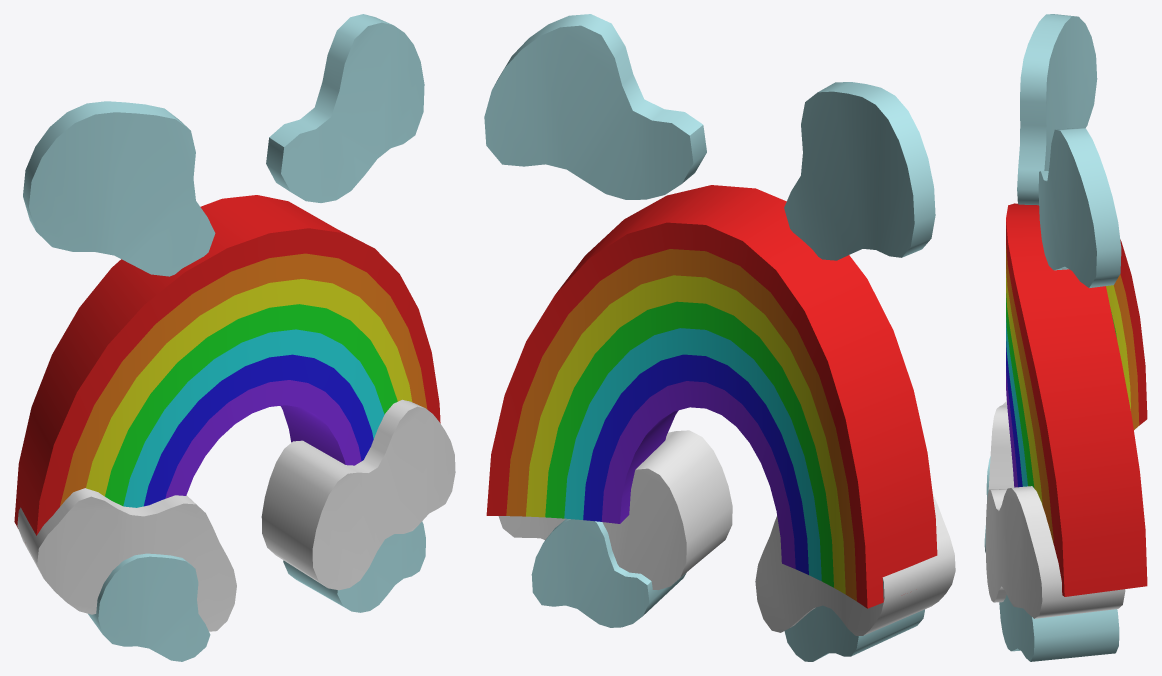
The model's file is Unicorn_Inner.fbx.
3 views of the same model, side by side, from view 1: azimuth 30°, elevation 25°; view 2: azimuth 150°, elevation 25°; view 3: azimuth 270°, elevation 25° (orthographic). The views are drawn at different scales.
Visible parts, largest first — view 1: Rainbow_Inner; view 2: Rainbow_Inner; view 3: Rainbow_Inner.
Boxes of the visible parts, left/top/right/bottom form: Rainbow_Inner: left=14, top=14, right=455, bottom=661; Rainbow_Inner: left=484, top=14, right=955, bottom=661; Rainbow_Inner: left=984, top=14, right=1147, bottom=661.
Size of the model in its own units: 24.56 by 31.5 by 8.78.
